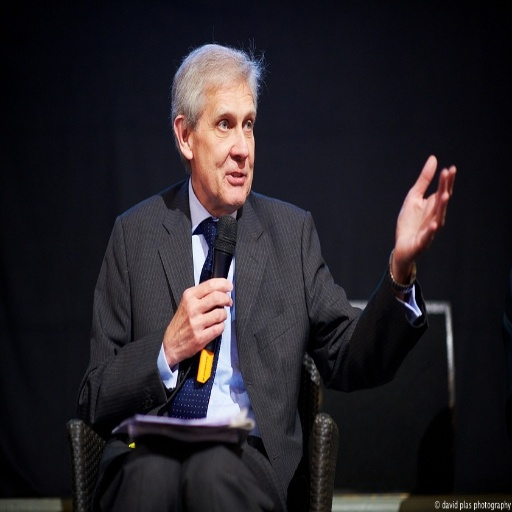hand: (384, 157, 454, 310), (164, 276, 233, 362)
